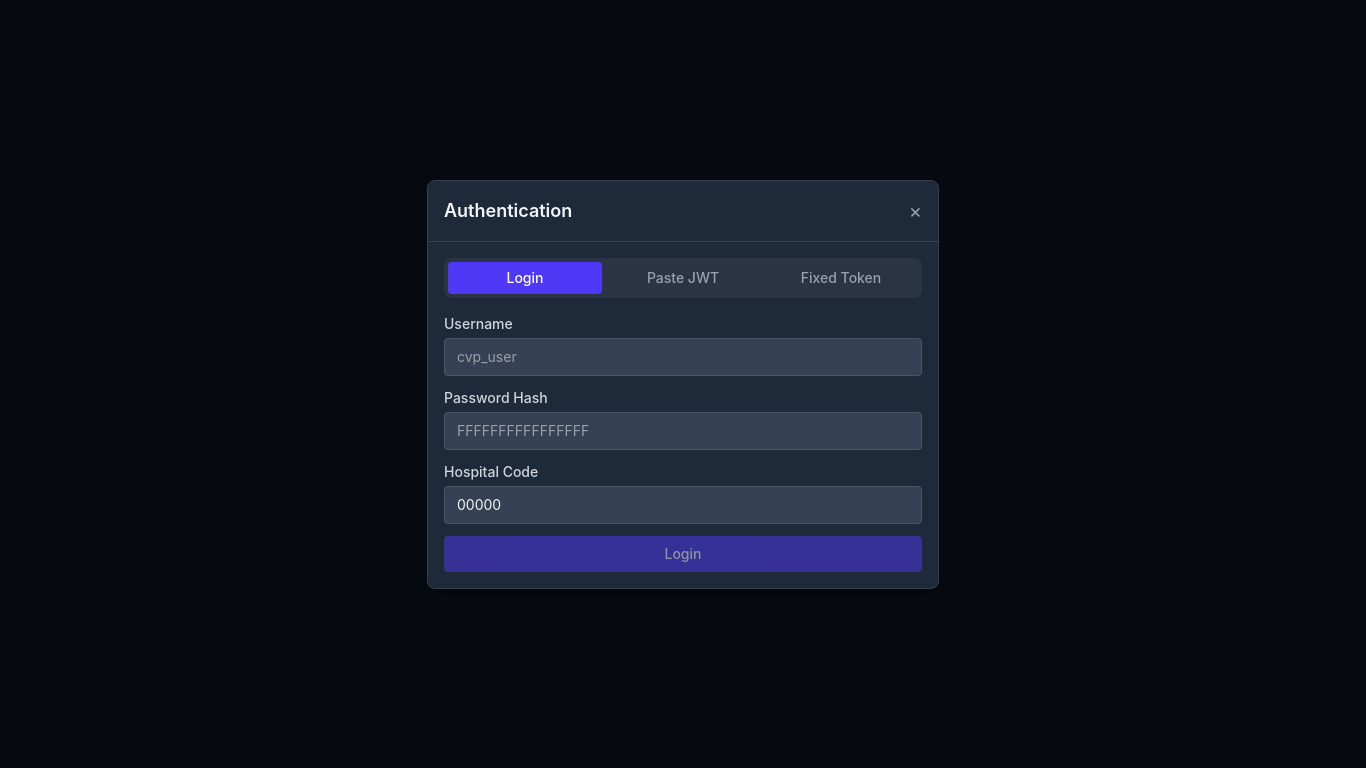
AuthModal › switches to Paste JWT tab
Step 1. Click the button "Paste JWT" → (683, 278), box [606,262,760,294]
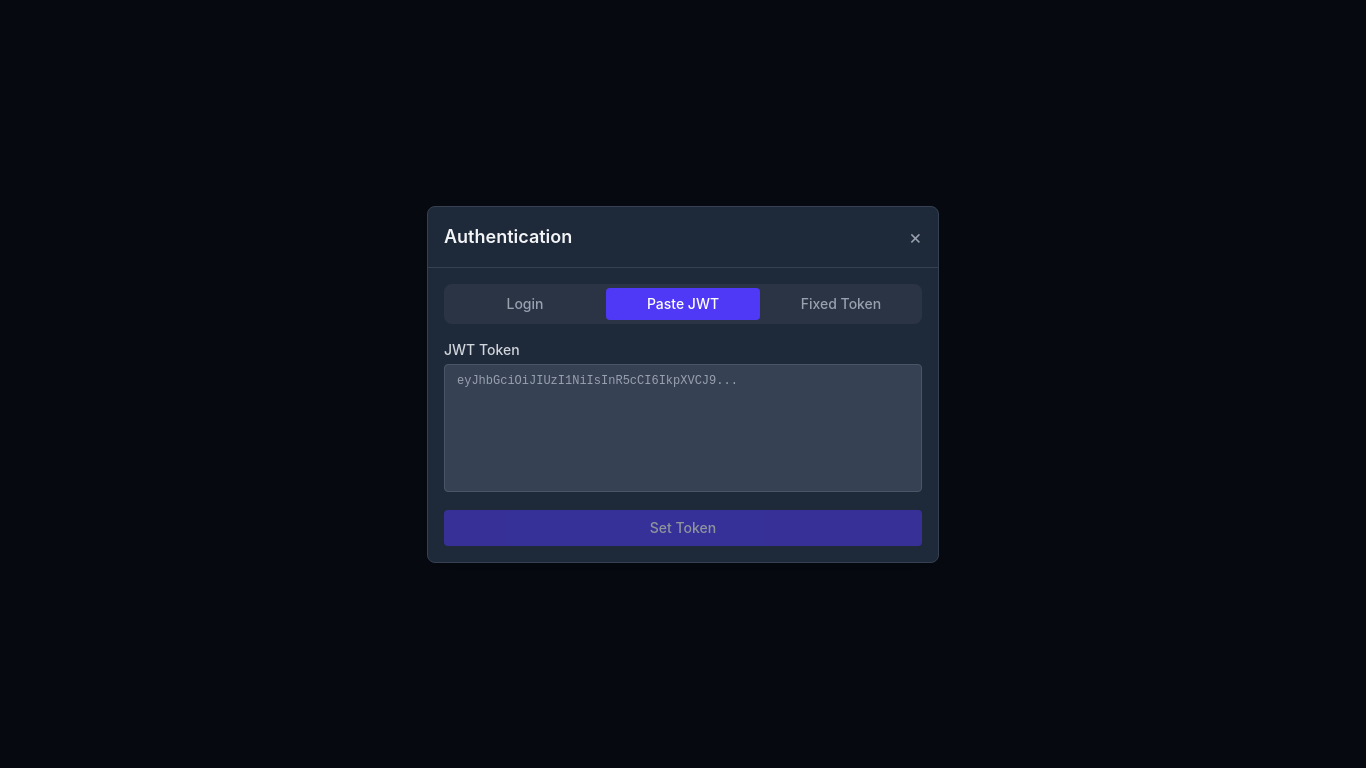
expect the text box with placeholder "eyJhbGciOiJIUzI1NiIsInR5cCI6IkpXVCJ9..." is shown: met, box [444,364,922,492]
